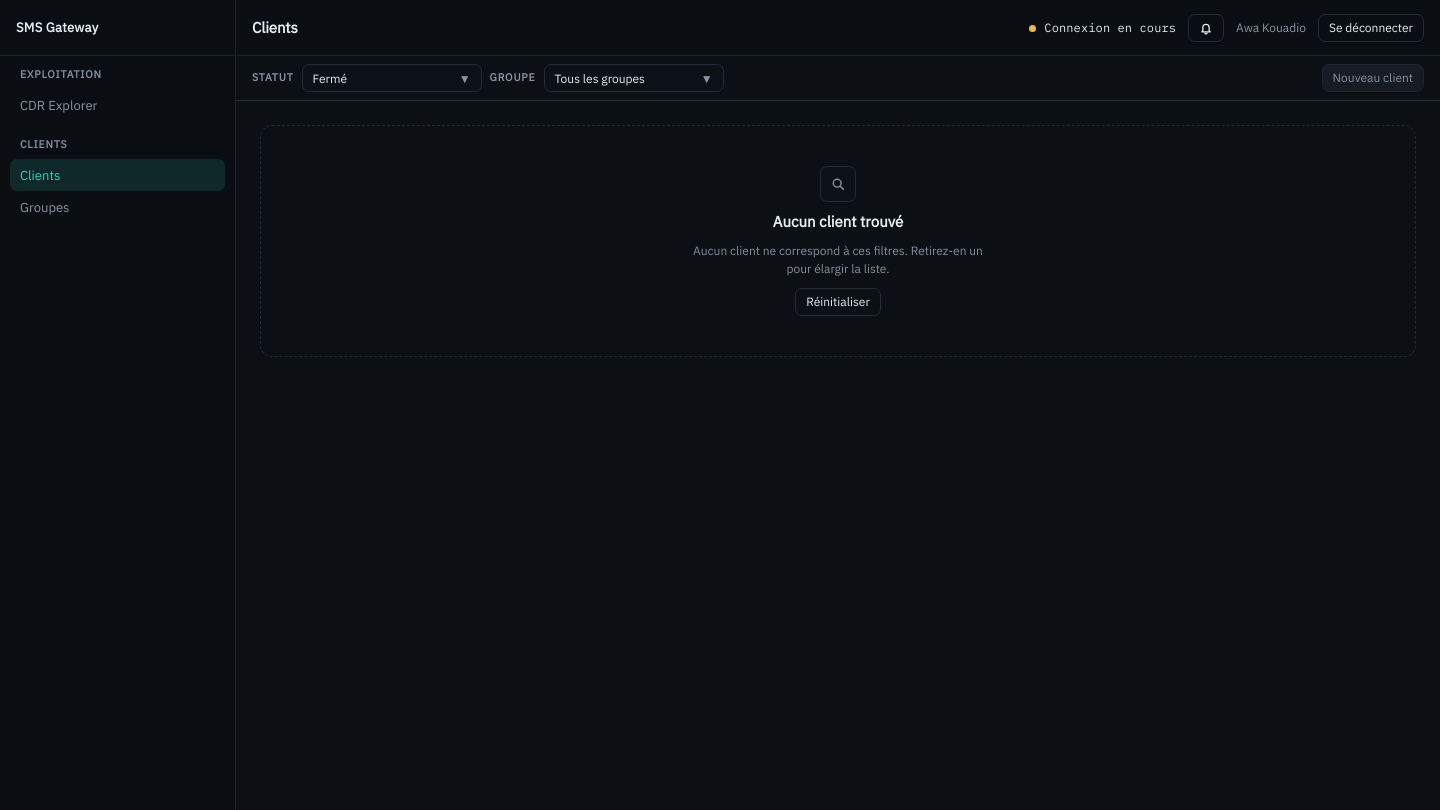
Test: the customers screen › says the filters are too narrow, and resets them
This screenshot has width=1440, height=810.
Expected: the heading "Aucun client trouvé" is shown, x1=773 y1=212 x2=903 y2=232
Click the button "Réinitialiser": (838, 302) x1=795 y1=288 x2=881 y2=316
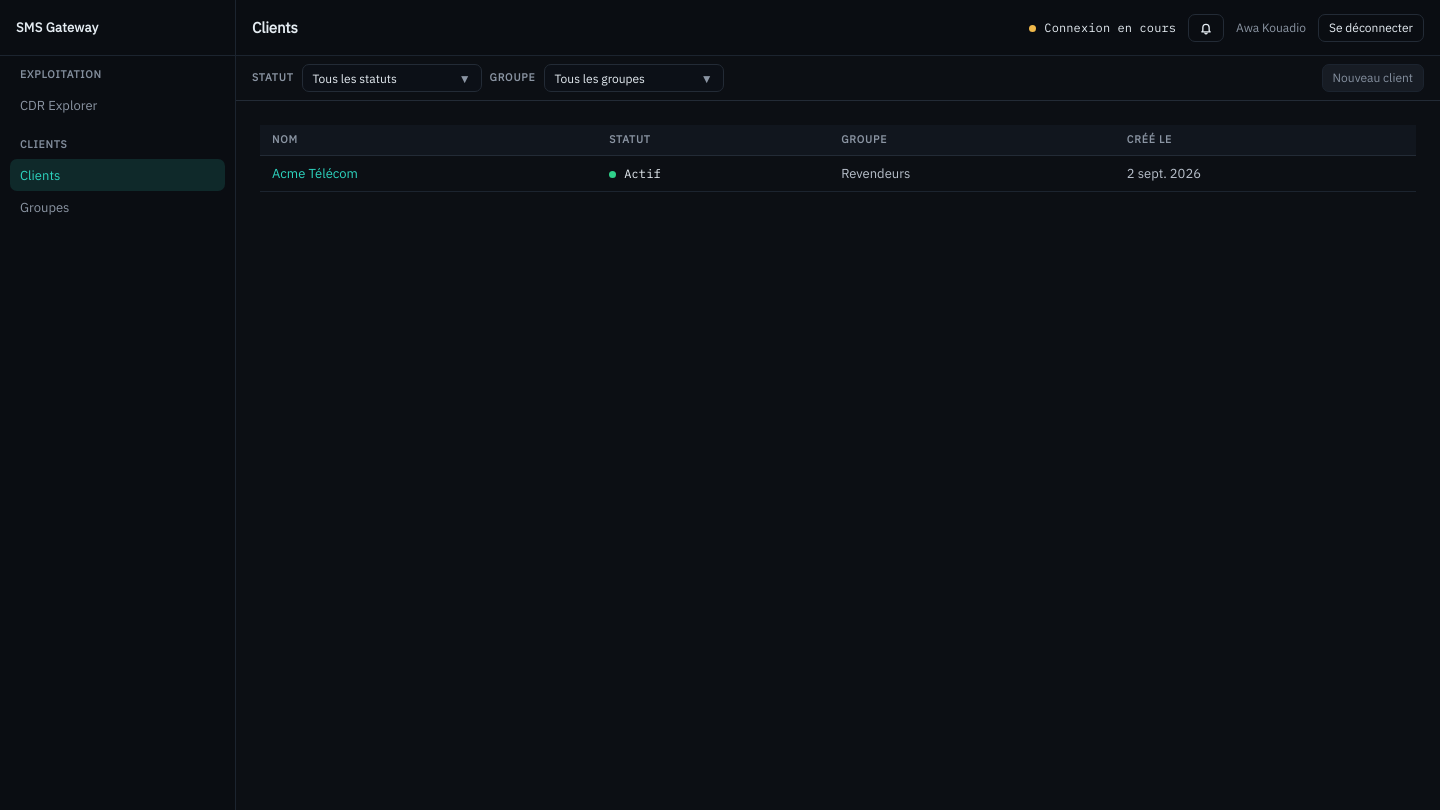
Expected: the cell "Acme Télécom" is shown, x1=260 y1=156 x2=597 y2=192
